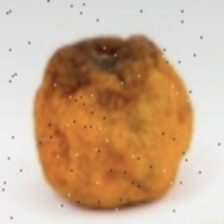orange: (40, 31, 197, 220)
